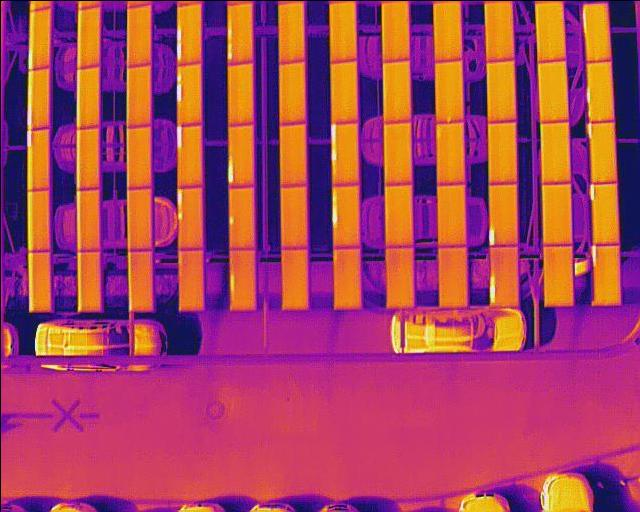Cell: (228, 186, 253, 249)
No-Anomaly: (539, 121, 569, 183), (534, 0, 564, 62), (542, 245, 572, 306), (537, 61, 567, 122), (542, 182, 571, 245), (437, 247, 466, 309), (485, 60, 514, 122), (484, 0, 513, 60), (383, 184, 411, 246), (384, 246, 412, 308), (279, 248, 307, 310), (487, 122, 515, 183), (432, 0, 460, 61), (380, 0, 408, 61), (434, 61, 462, 122), (383, 121, 410, 184), (436, 184, 463, 247), (332, 247, 359, 310), (329, 60, 356, 123), (436, 122, 463, 184), (279, 186, 306, 248), (328, 0, 355, 62), (381, 60, 408, 121), (278, 0, 304, 62), (278, 62, 304, 124), (279, 124, 305, 185), (226, 62, 251, 125), (178, 249, 203, 311), (75, 4, 99, 68), (76, 250, 101, 311), (126, 3, 150, 66), (126, 64, 150, 127), (126, 124, 149, 189), (76, 189, 100, 251), (25, 190, 49, 252), (127, 249, 151, 311), (75, 127, 98, 189), (126, 187, 149, 249), (75, 66, 98, 128), (27, 252, 50, 312)
Unclassified: (587, 121, 616, 183), (487, 183, 516, 245), (589, 181, 617, 244), (591, 244, 619, 306), (488, 245, 516, 307), (582, 0, 610, 61), (330, 122, 357, 185), (225, 125, 252, 187), (331, 185, 358, 247), (585, 60, 612, 122), (176, 188, 203, 249), (228, 249, 255, 310), (175, 2, 201, 65), (175, 62, 201, 125), (175, 126, 201, 188), (225, 1, 250, 65), (25, 67, 50, 131), (27, 5, 50, 70), (25, 129, 48, 191)
